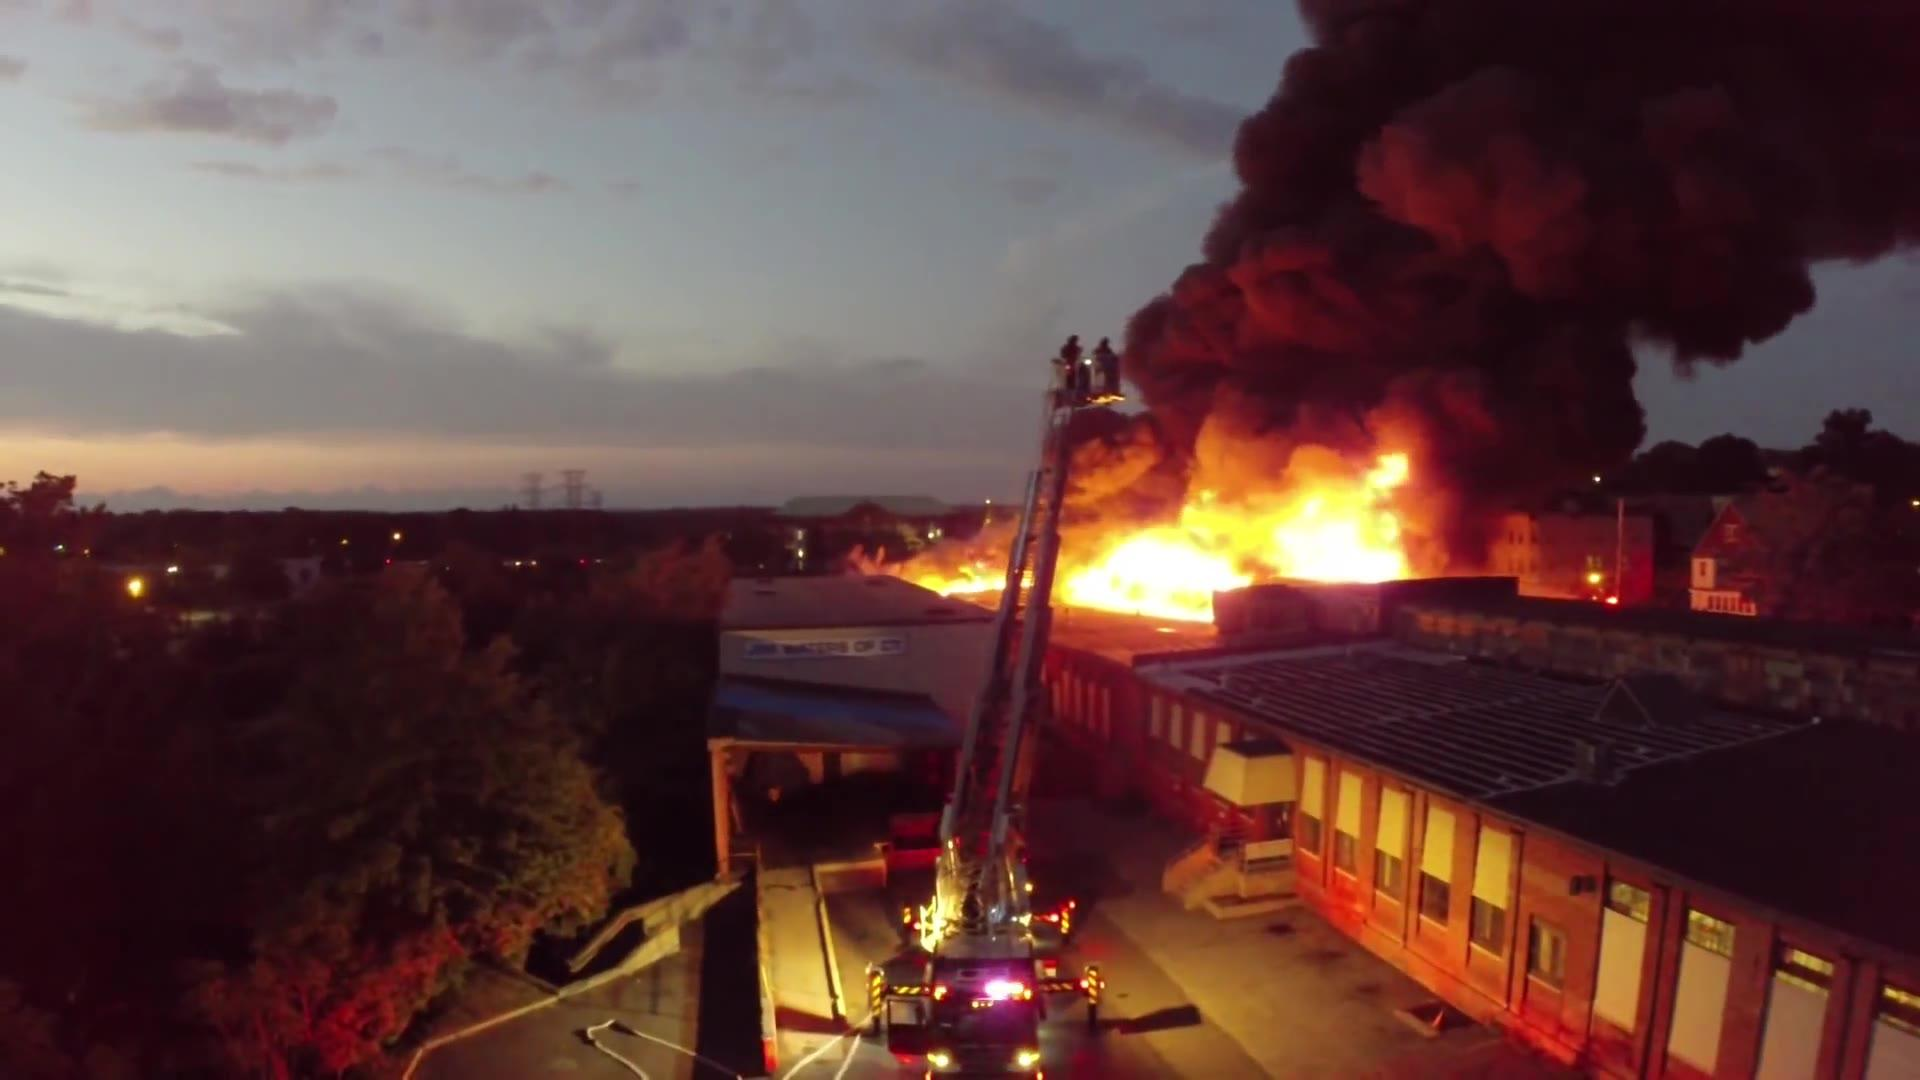fire: (940, 491, 1418, 607)
smoke: (1255, 0, 1920, 419)
